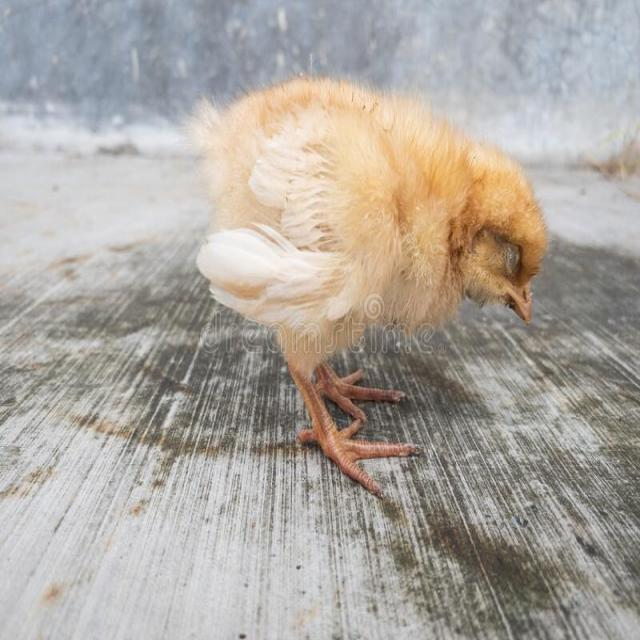poussin: (195, 69, 549, 501)
